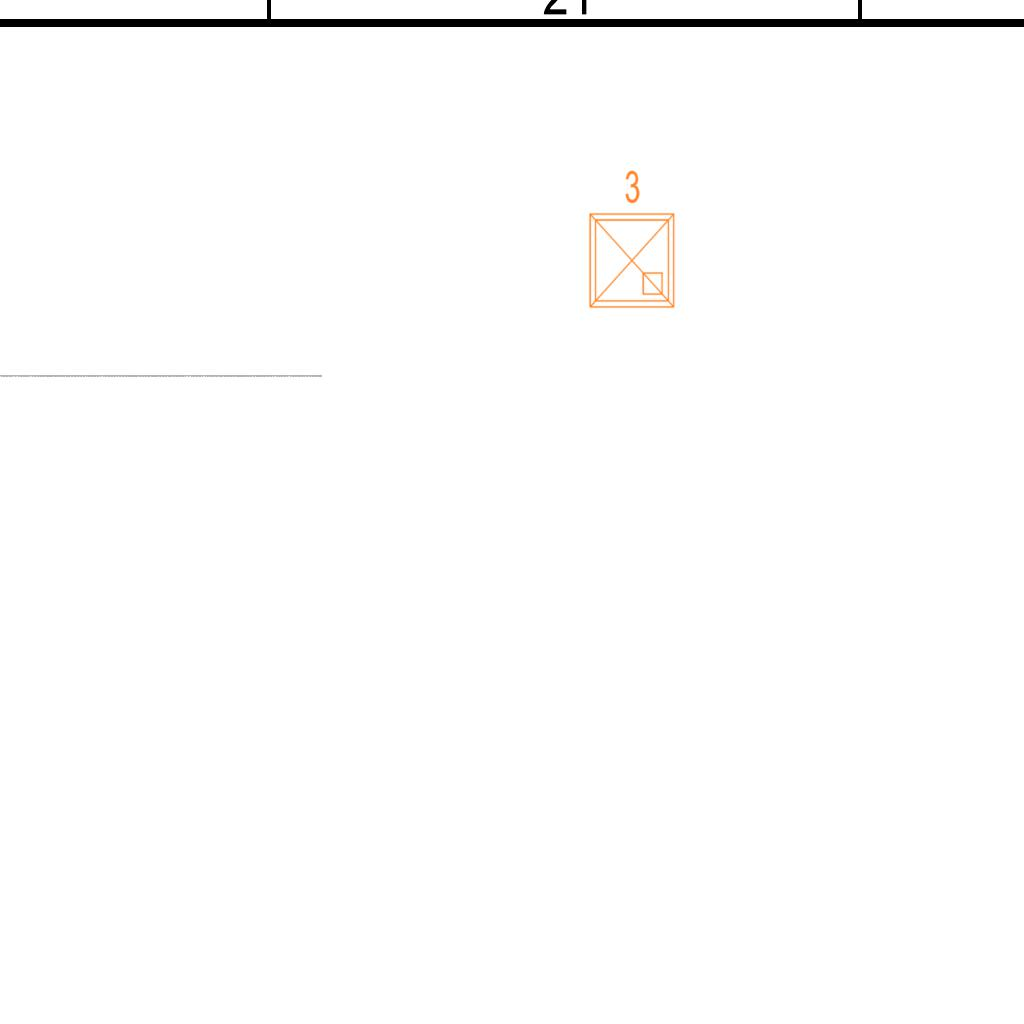Einbaudownlights_LED_Konferenzraeume: (578, 165, 682, 315)
